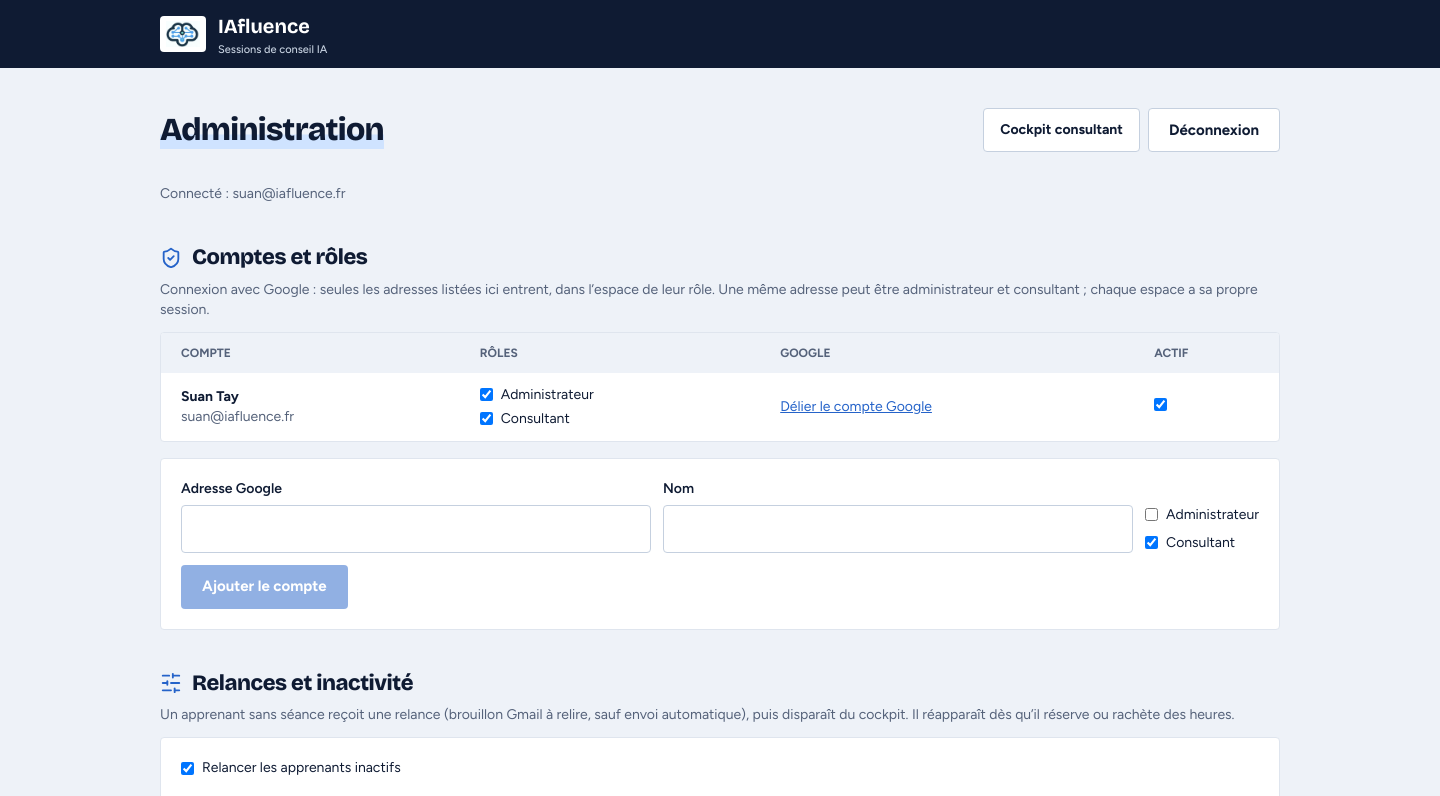
Scenario: Staff accounts › shows why a change was refused
What coordinates should you click on to do the following:
click the checkbox named "Compte actif : suan@iafluence.fr"
I would click on:
 (1161, 404)
Its box is [1154, 398, 1167, 410].
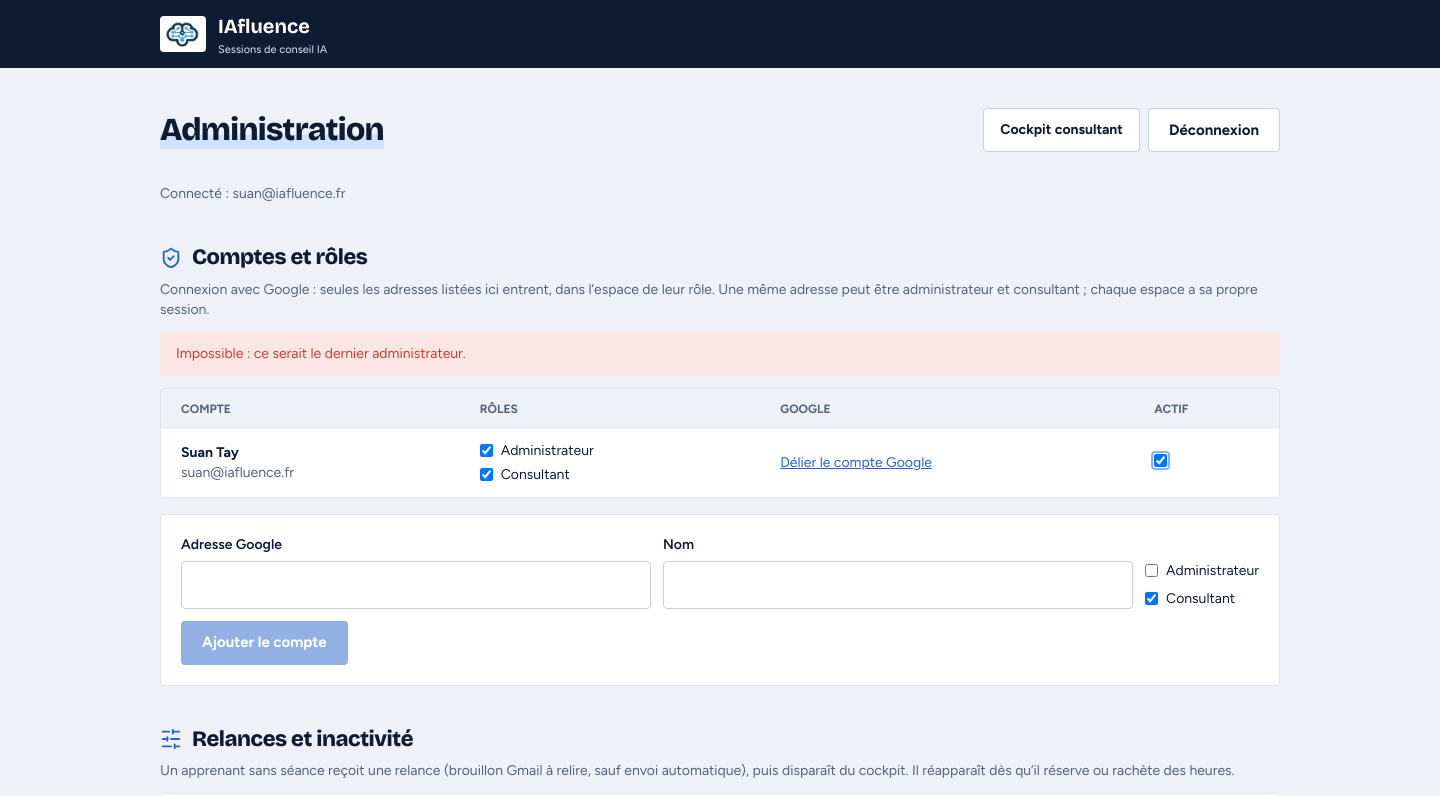
Check: the message shows "dernier administrateur", box [176, 344, 466, 362]
